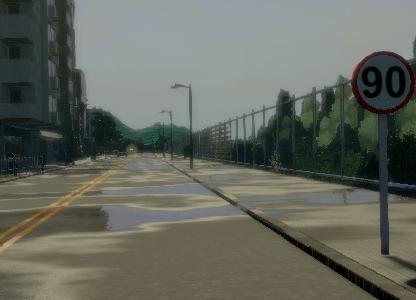Speed_90: (349, 44, 416, 121)
